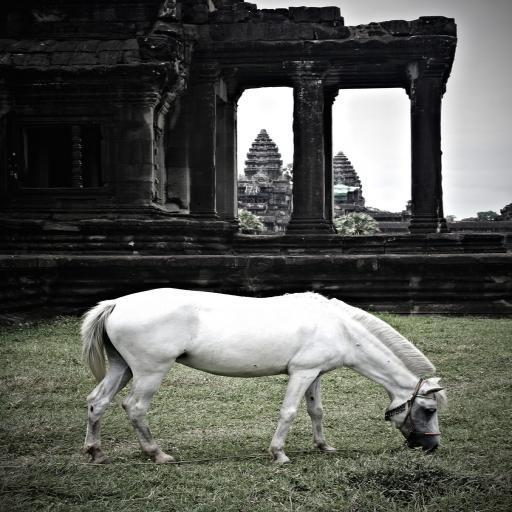horse: (74, 289, 447, 465)
